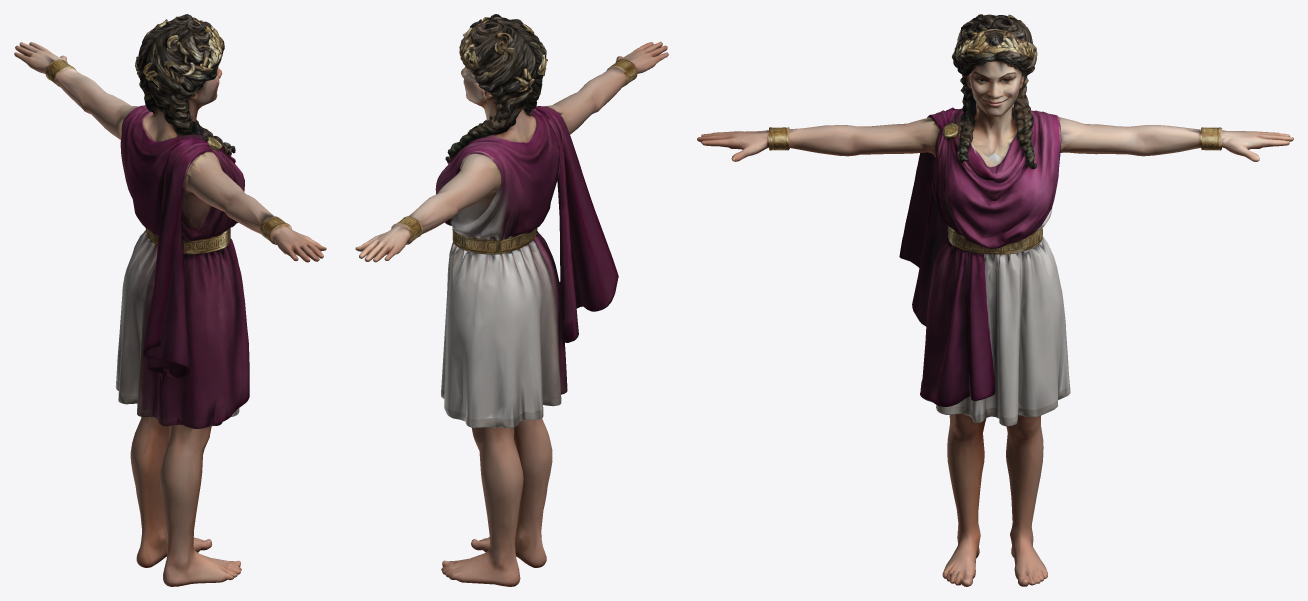
Rendered from the-empress.glb.
3 renders of one model, left to right at view 1: azimuth 30°, elevation 25°; view 2: azimuth 150°, elevation 25°; view 3: azimuth 270°, elevation 25°, orthographic.
Visible parts, largest first — view 1: 01-empress; view 2: 01-empress; view 3: 01-empress.
Boxes of the visible parts, x1,y1,x2,y2 form: 01-empress: (14, 14, 326, 586); 01-empress: (355, 14, 668, 586); 01-empress: (697, 14, 1293, 586).
Bounding box in the file's own units: 0.2473 × 0.9789 × 0.9576.
1 material, 1 textured.
